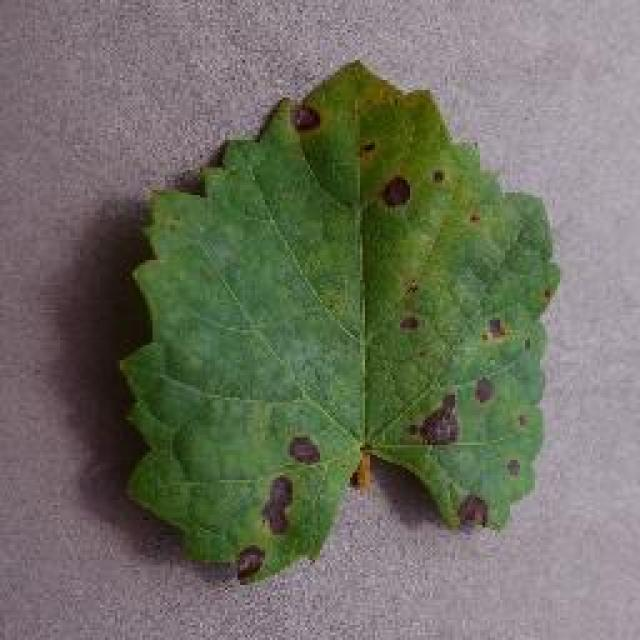Grape___Black_rot: (115, 55, 565, 593)
